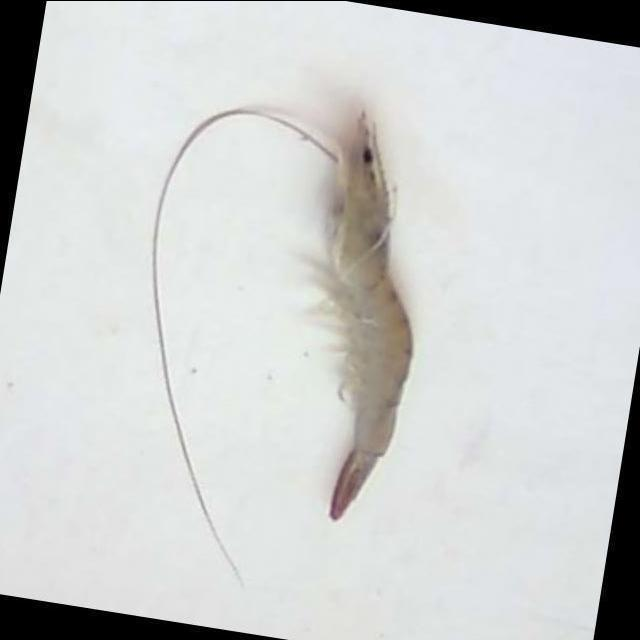shrimp: (326, 111, 413, 520)
